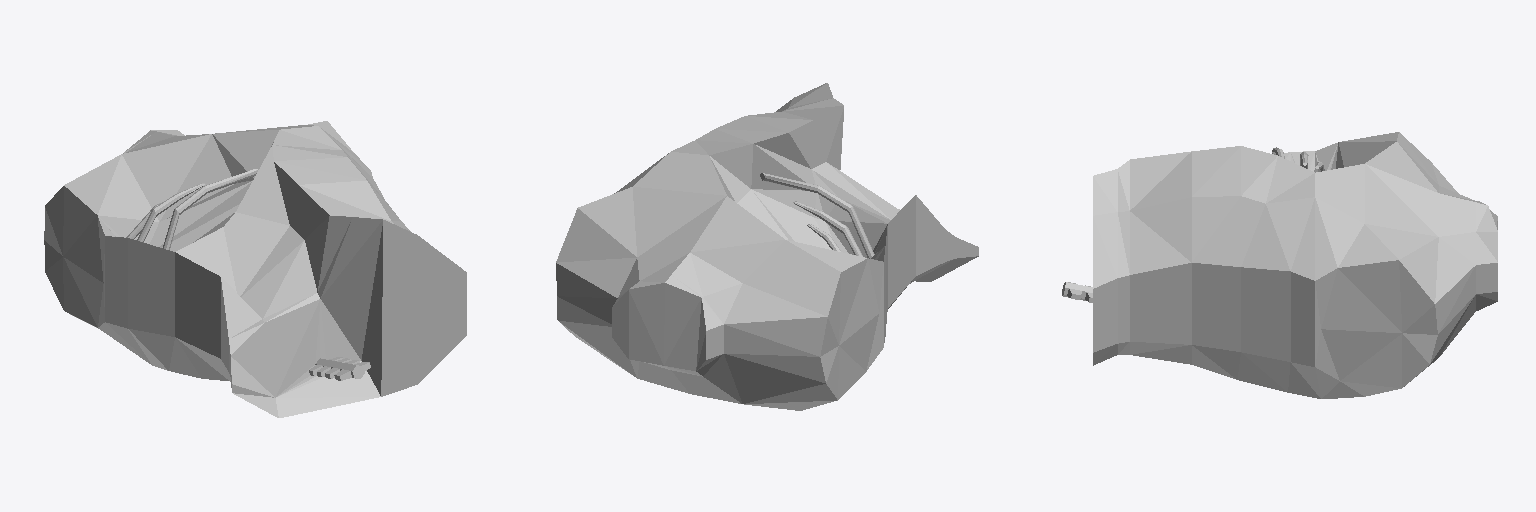
Rendered from tris.obj.
3 views of the same model, side by side, from view 1: azimuth 30°, elevation 25°; view 2: azimuth 150°, elevation 25°; view 3: azimuth 270°, elevation 25° (orthographic).
Visible parts, largest first — view 1: Circle; view 2: Circle; view 3: Circle.
Part boxes in pixels (bbox=[...]): Circle: bbox=[44, 121, 466, 417]; Circle: bbox=[556, 83, 978, 410]; Circle: bbox=[1062, 132, 1497, 398].
Bounding box in the file's own units: 20.67 × 15.94 × 28.81.